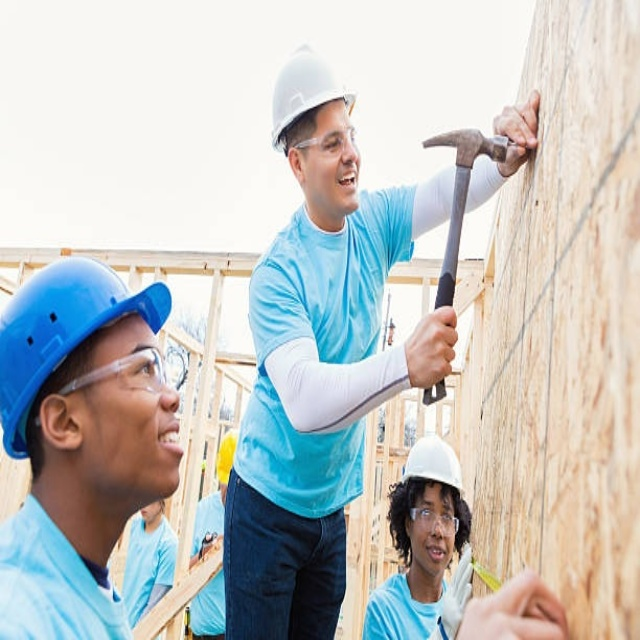Gafas: (53, 348, 169, 411), (290, 118, 361, 158), (409, 502, 462, 541)
Guantes: (438, 544, 475, 640)
Sin_guantes: (453, 564, 573, 640), (405, 305, 459, 390), (494, 89, 543, 169)
Sin_mascara: (139, 414, 190, 488), (330, 168, 361, 212), (422, 543, 449, 566)
